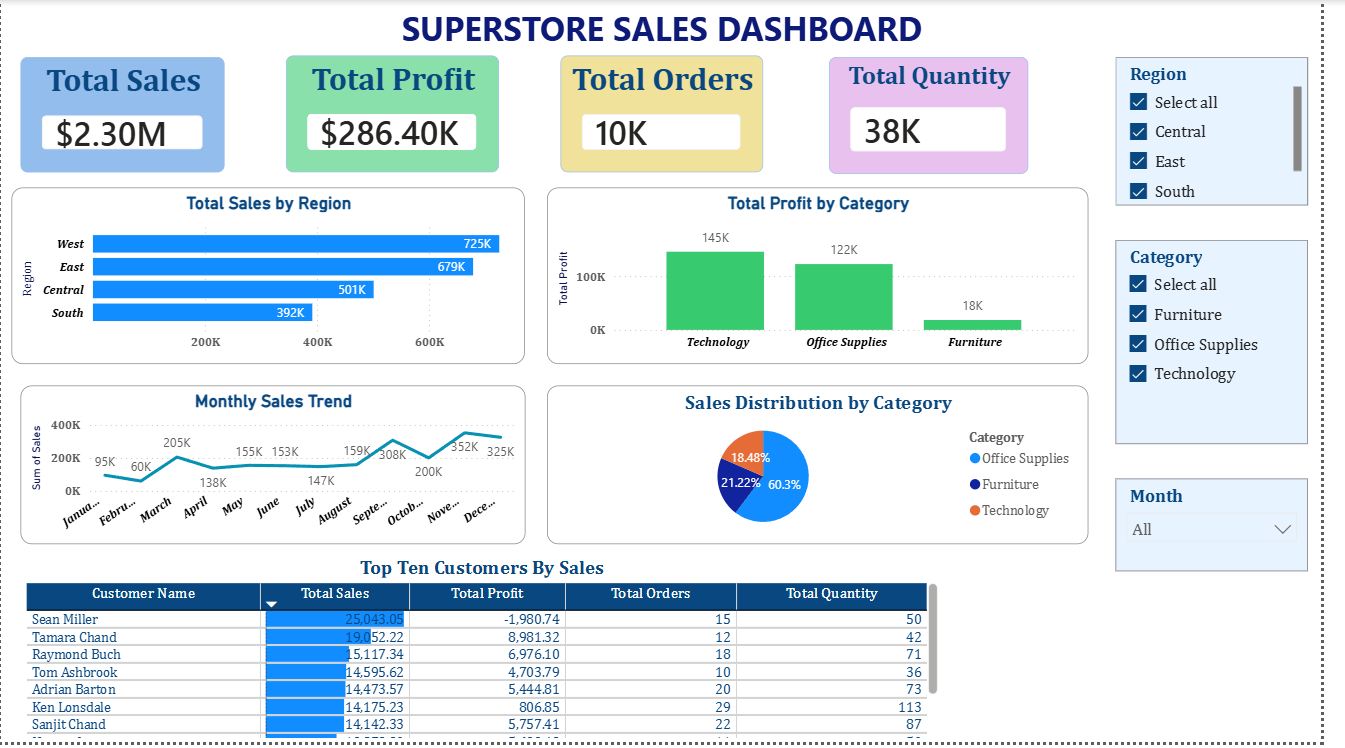

This screenshot's page, from the dashboard's own definition file:
{"tool":"powerbi","page":{"name":"Page 1","canvas":[1280,720],"ordinal":0},"visuals":[{"type":"textbox","box":[9.7,0,1271.1,89.1],"z":0},{"type":"cardVisual","title":"Total Sales","fields":{"Data":["Sum(Orders1.Sales)"]},"box":[18.6,55.9,198.3,111.9],"z":1000},{"type":"cardVisual","title":"Total Profit","fields":{"Data":["Sum(Orders1.Profit)"]},"box":[276.3,54.2,206.8,113.6],"z":2000},{"type":"cardVisual","title":"Total Orders","fields":{"Data":["CountNonNull(Orders1.Order ID)"]},"box":[542.4,54.2,196.6,113.6],"z":3000},{"type":"cardVisual","title":"Total Quantity","fields":{"Data":["Sum(Orders1.Quantity)"]},"box":[803.4,55.9,193.2,113.6],"z":4000},{"type":"clusteredBarChart","fields":{"Category":["Orders1.Region"],"Y":["Sum(Orders1.Sales)"]},"box":[10.2,181.4,498.3,171.2],"z":5000},{"type":"clusteredColumnChart","fields":{"Category":["Orders1.Category"],"Y":["Sum(Orders1.Profit)"]},"box":[530.5,181.4,525.4,171.2],"z":6000},{"type":"lineChart","title":"Monthly Sales Trend","fields":{"Category":["Orders1.Order Date.Variation.Date Hierarchy.Month"],"Y":["Sum(Orders1.Sales)"]},"box":[18.6,374.6,489.8,154.2],"z":7000},{"type":"pieChart","title":"Category Distribution by Sales","fields":{"Category":["Orders1.Category"],"Y":["CountNonNull(Orders1.Category)"]},"box":[530.5,374.6,525.4,154.2],"z":8000},{"type":"slicer","fields":{"Values":["Orders1.Region"]},"box":[1081.4,55.9,186.4,144],"z":9000},{"type":"slicer","fields":{"Values":["Orders1.Category"]},"box":[1081.4,232.2,186.4,198.3],"z":10000},{"type":"slicer","fields":{"Values":["Orders1.Order Date.Variation.Date Hierarchy.Month"]},"box":[1081.4,464.4,186.4,89.8],"z":11000},{"type":"tableEx","title":"Top Ten Customers By Sales ","fields":{"Values":["Orders1.Customer Name","Sum(Orders1.Sales)","Sum(Orders1.Profit)","Orders1.Order ID","Sum(Orders1.Quantity)"]},"box":[18.6,539,894.9,181.4],"z":12000}]}

Visuals, with their boxes in screenshot pixels (x1, y1, x2, y2), scaled from the page's 1280x720 canvas onto the 1345x748 screenshot:
textbox: box=[10, 0, 1344, 93]
"Total Sales" cardVisual: box=[20, 58, 228, 174]
"Total Profit" cardVisual: box=[290, 56, 508, 174]
"Total Orders" cardVisual: box=[570, 56, 777, 174]
"Total Quantity" cardVisual: box=[844, 58, 1047, 176]
clusteredBarChart - Orders1.Region x Sum(Orders1.Sales): box=[11, 188, 534, 366]
clusteredColumnChart - Orders1.Category x Sum(Orders1.Profit): box=[557, 188, 1110, 366]
"Monthly Sales Trend" lineChart: box=[20, 389, 534, 549]
"Category Distribution by Sales" pieChart: box=[557, 389, 1110, 549]
slicer - Orders1.Region: box=[1136, 58, 1332, 208]
slicer - Orders1.Category: box=[1136, 241, 1332, 447]
slicer - Orders1.Order Date.Variation.Date Hierarchy.Month: box=[1136, 482, 1332, 576]
"Top Ten Customers By Sales " tableEx: box=[20, 560, 960, 747]
